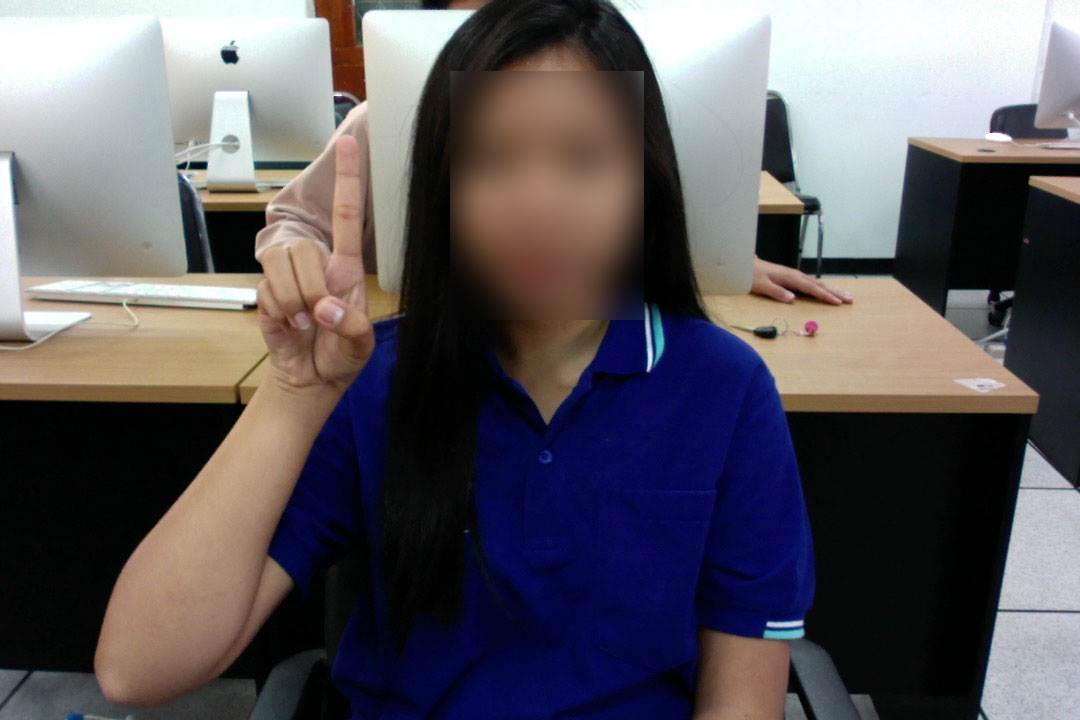dor: (239, 129, 381, 388)
